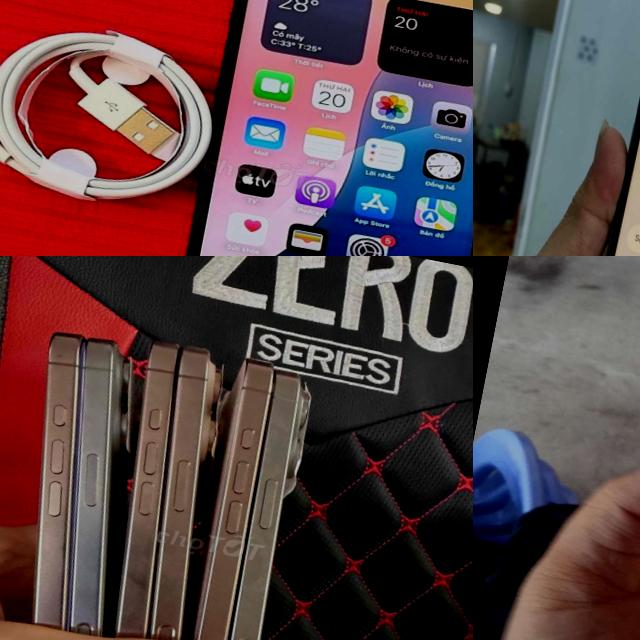gen_12_13: (157, 0, 473, 256)
gen_14: (553, 0, 640, 256)
gen_16: (190, 361, 334, 640)
